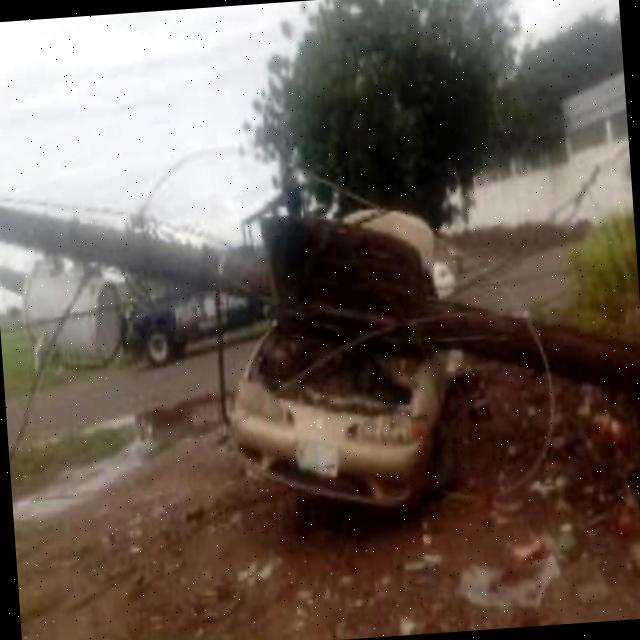Broken Pole: (0, 202, 640, 400)
